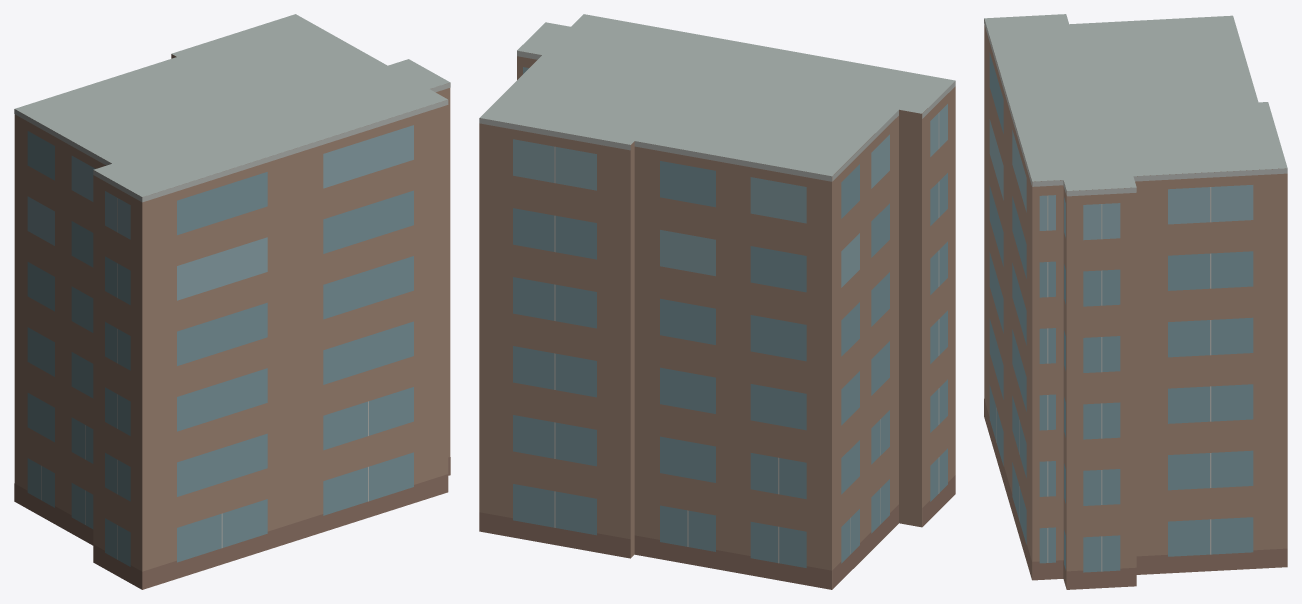
File: survey-upis-32659351.glb
3 views of the same model, side by side, from view 1: azimuth 30°, elevation 25°; view 2: azimuth 150°, elevation 25°; view 3: azimuth 270°, elevation 25° (orthographic). The views are drawn at different scales.
Visible parts, largest first — view 1: survey-upis-32659351.tmp; view 2: survey-upis-32659351.tmp; view 3: survey-upis-32659351.tmp.
Part boxes in pixels (<box>): survey-upis-32659351.tmp: <box>14,14,450,589</box>; survey-upis-32659351.tmp: <box>479,14,955,589</box>; survey-upis-32659351.tmp: <box>984,14,1287,589</box>.
Bounding box in the file's own units: 17.44 × 18.3 × 12.63.
